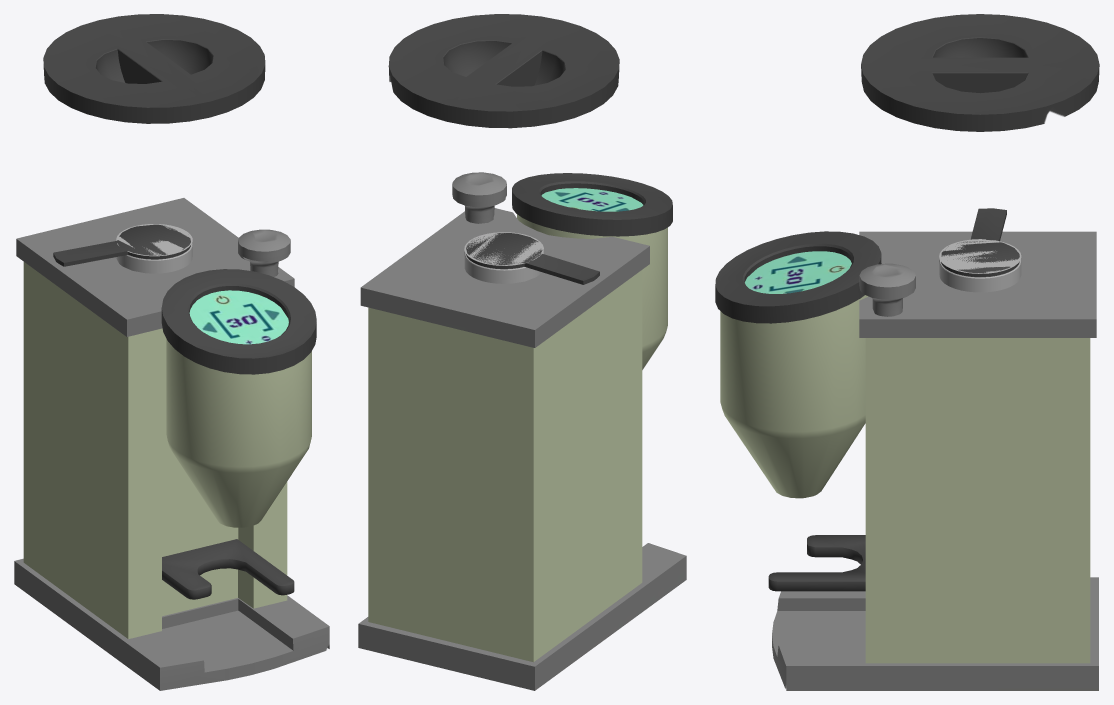
File: coffee_machine.glb
3 renders of one model, left to right at view 1: azimuth 30°, elevation 25°; view 2: azimuth 150°, elevation 25°; view 3: azimuth 270°, elevation 25°, orthographic. The views are drawn at different scales.
Parts seen in each view (by area): view 1: machine_body.000_M_0_0_0; view 2: machine_body.000_M_0_0_0; view 3: machine_body.000_M_0_0_0.
Boxes of the visible parts, x1,y1,x2,y2 form: machine_body.000_M_0_0_0: [14, 14, 329, 690]; machine_body.000_M_0_0_0: [358, 14, 686, 690]; machine_body.000_M_0_0_0: [715, 14, 1099, 690].
Size of the model in its own units: 14.11 by 37.99 by 22.72.
1 material, 1 textured.
